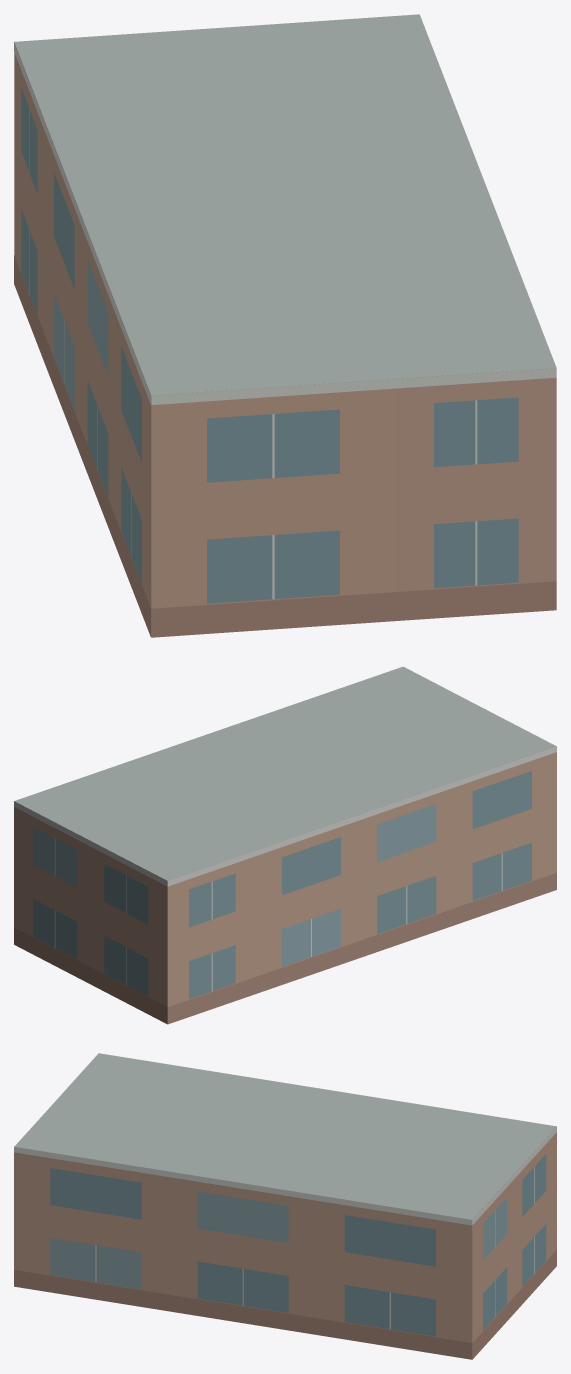
File: survey-upis-32683215.glb
3 renders of one model, top to bottom at view 1: azimuth 30°, elevation 25°; view 2: azimuth 150°, elevation 25°; view 3: azimuth 270°, elevation 25°, orthographic. The views are drawn at different scales.
Visible parts, largest first — view 1: survey-upis-32683215.tmp; view 2: survey-upis-32683215.tmp; view 3: survey-upis-32683215.tmp.
Part boxes in pixels (<box>): survey-upis-32683215.tmp: <box>14,14,556,637</box>; survey-upis-32683215.tmp: <box>14,666,556,1024</box>; survey-upis-32683215.tmp: <box>14,1053,556,1359</box>.
Size of the model in its own units: 15.62 by 6.1 by 21.47.
